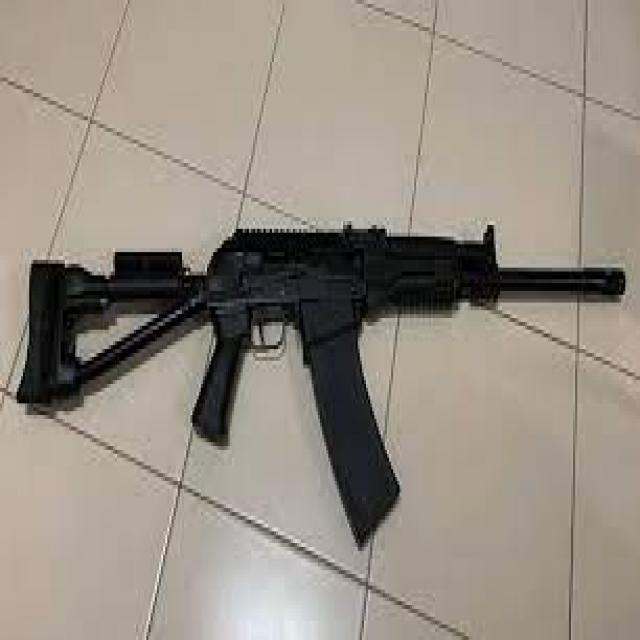weapon: (14, 218, 627, 552)
